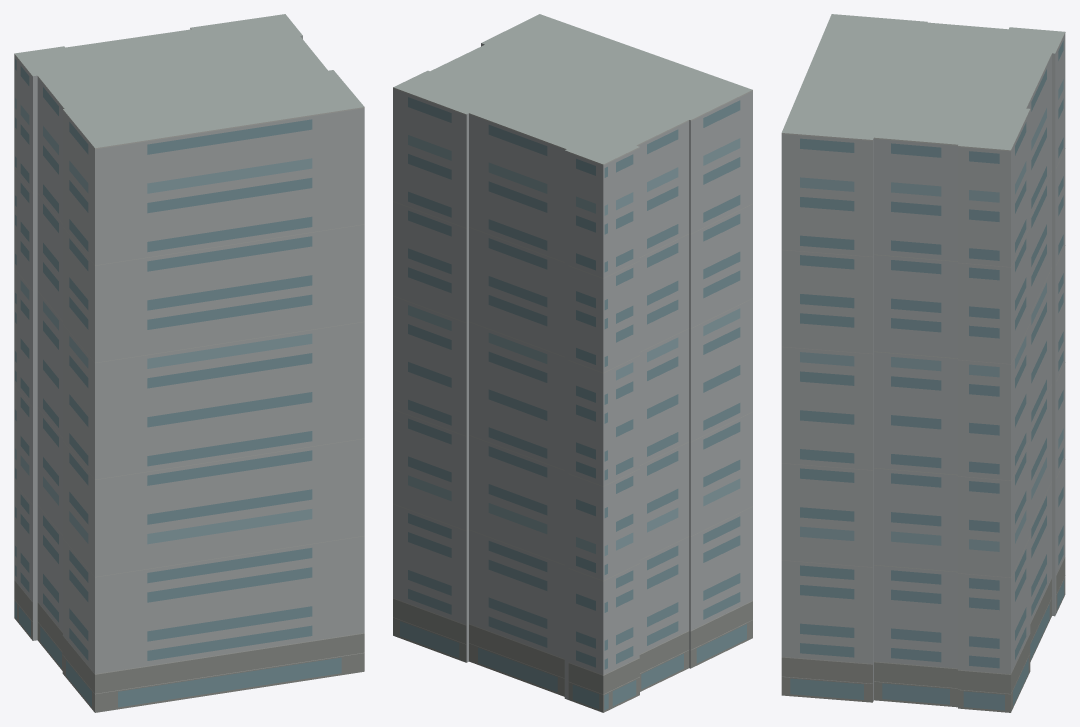
File: survey-upis-32820462.glb
3 views of the same model, side by side, from view 1: azimuth 30°, elevation 25°; view 2: azimuth 150°, elevation 25°; view 3: azimuth 270°, elevation 25° (orthographic). The views are drawn at different scales.
Visible parts, largest first — view 1: survey-upis-32820462.tmp; view 2: survey-upis-32820462.tmp; view 3: survey-upis-32820462.tmp.
Boxes of the visible parts, box(x1,y1,x2,y2) form: survey-upis-32820462.tmp: box(14, 14, 364, 712); survey-upis-32820462.tmp: box(393, 14, 752, 712); survey-upis-32820462.tmp: box(781, 14, 1065, 712).
Size of the model in its own units: 60.3 by 116 by 53.07.
